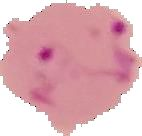parasitized: (24, 11, 137, 116), (28, 41, 83, 87), (86, 39, 136, 85), (80, 10, 135, 50)
